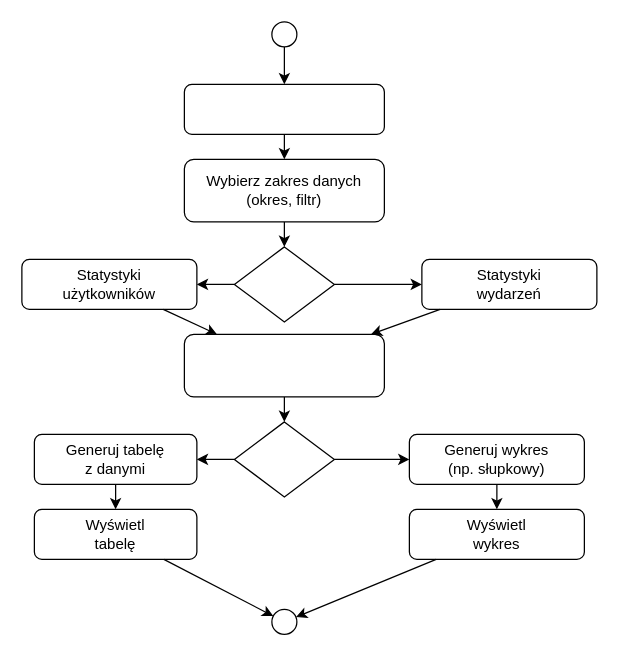
The diagram is 619 pixels wide and 656 high, and some of its shapes have lost their labels. Each missing label, with the centre of its shape:
"Forma prezentacji?" belongs at [283,459].
"Otwórz panel statystyk" belongs at [283,108].
"Pobierz dane z bazy dla wybranego typu" belongs at [283,365].
"Typ statystyki?" belongs at [283,284].
